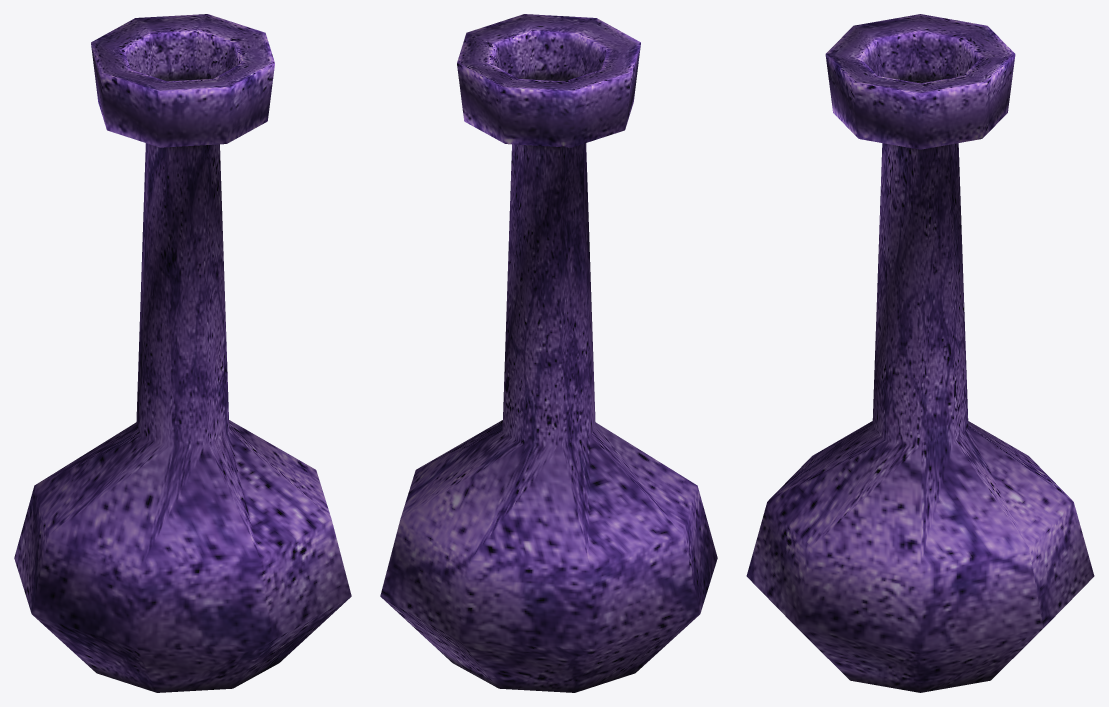
Rendered from potion01.FBX.
3 renders of one model, left to right at view 1: azimuth 30°, elevation 25°; view 2: azimuth 150°, elevation 25°; view 3: azimuth 270°, elevation 25°, orthographic.
Visible parts, largest first — view 1: potion01; view 2: potion01; view 3: potion01.
Boxes of the visible parts, box(x1,y1,x2,y2) form: potion01: box(14, 14, 351, 692); potion01: box(380, 14, 717, 692); potion01: box(746, 14, 1094, 692).
Size of the model in its own units: 0.3171 by 0.3171 by 0.6.
